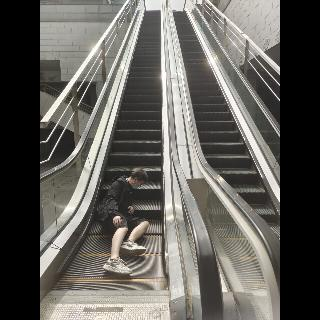anomaly: (97, 162, 157, 278)
